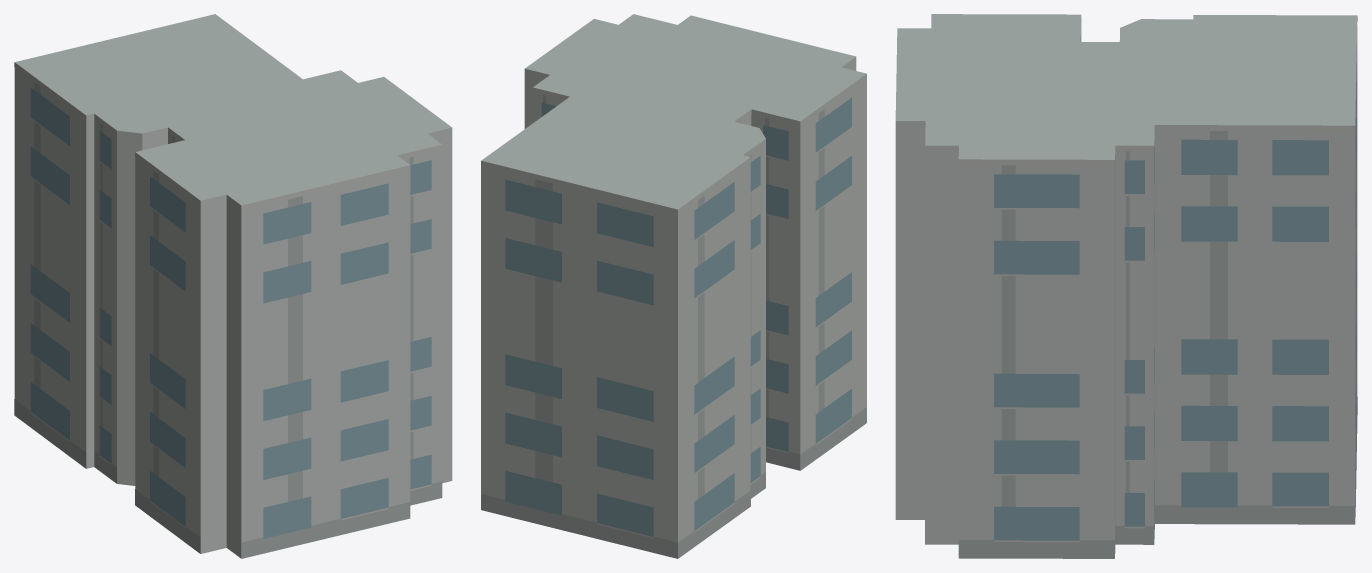
Rendered from survey-upis-33012717.glb.
3 renders of one model, left to right at view 1: azimuth 30°, elevation 25°; view 2: azimuth 150°, elevation 25°; view 3: azimuth 270°, elevation 25°, orthographic. The views are drawn at different scales.
Visible parts, largest first — view 1: survey-upis-33012717.tmp; view 2: survey-upis-33012717.tmp; view 3: survey-upis-33012717.tmp.
Boxes of the visible parts, bbox=[...] form: survey-upis-33012717.tmp: bbox=[14, 14, 452, 558]; survey-upis-33012717.tmp: bbox=[481, 14, 866, 558]; survey-upis-33012717.tmp: bbox=[895, 14, 1357, 558].
Size of the model in its own units: 13.3 by 16.95 by 17.79.
